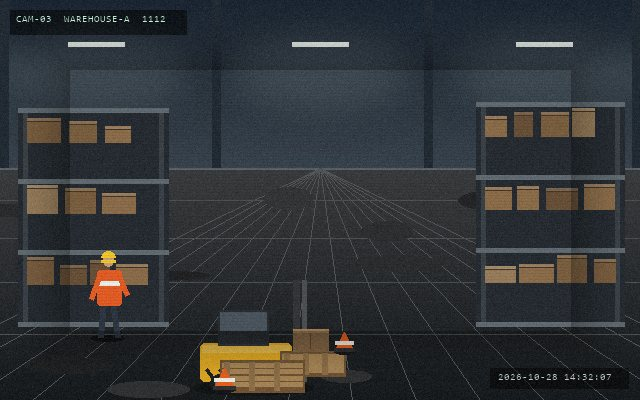cone: (212, 366, 236, 392), (333, 330, 355, 354)
forklift: (196, 278, 338, 395)
pallet: (218, 358, 306, 394), (278, 349, 347, 378)
person: (89, 249, 129, 340)
shelf: (476, 102, 624, 322), (18, 108, 168, 322)
